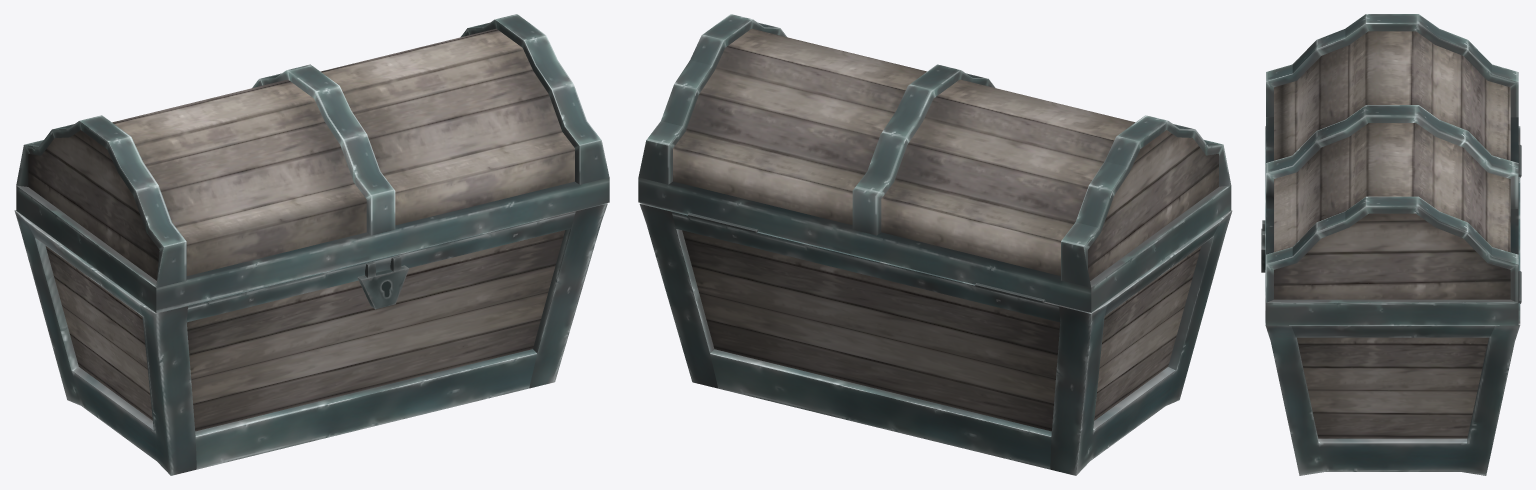
Rendered from chest_011.FBX.
3 views of the same model, side by side, from view 1: azimuth 30°, elevation 25°; view 2: azimuth 150°, elevation 25°; view 3: azimuth 270°, elevation 25° (orthographic). The views are drawn at different scales.
Visible parts, largest first — view 1: chest, chest_0113; view 2: chest, chest_0113; view 3: chest, chest_0113.
Boxes of the visible parts, x1,y1,x2,y2 form: chest: (16,14,609,312); chest_0113: (14,203,607,475); chest: (638,14,1231,312); chest_0113: (639,203,1232,475); chest: (1266,14,1518,325); chest_0113: (1261,126,1521,475).
Bounding box in the file's own units: 23.3 × 15.26 × 12.77.
